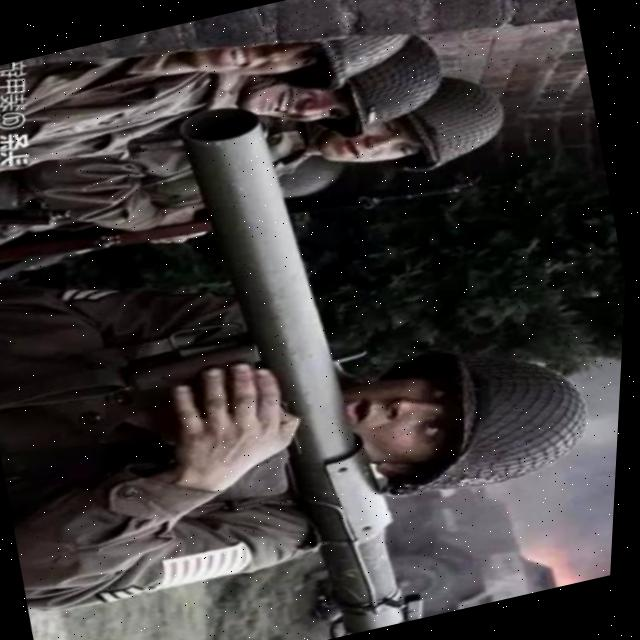rocket: (71, 55, 540, 640)
